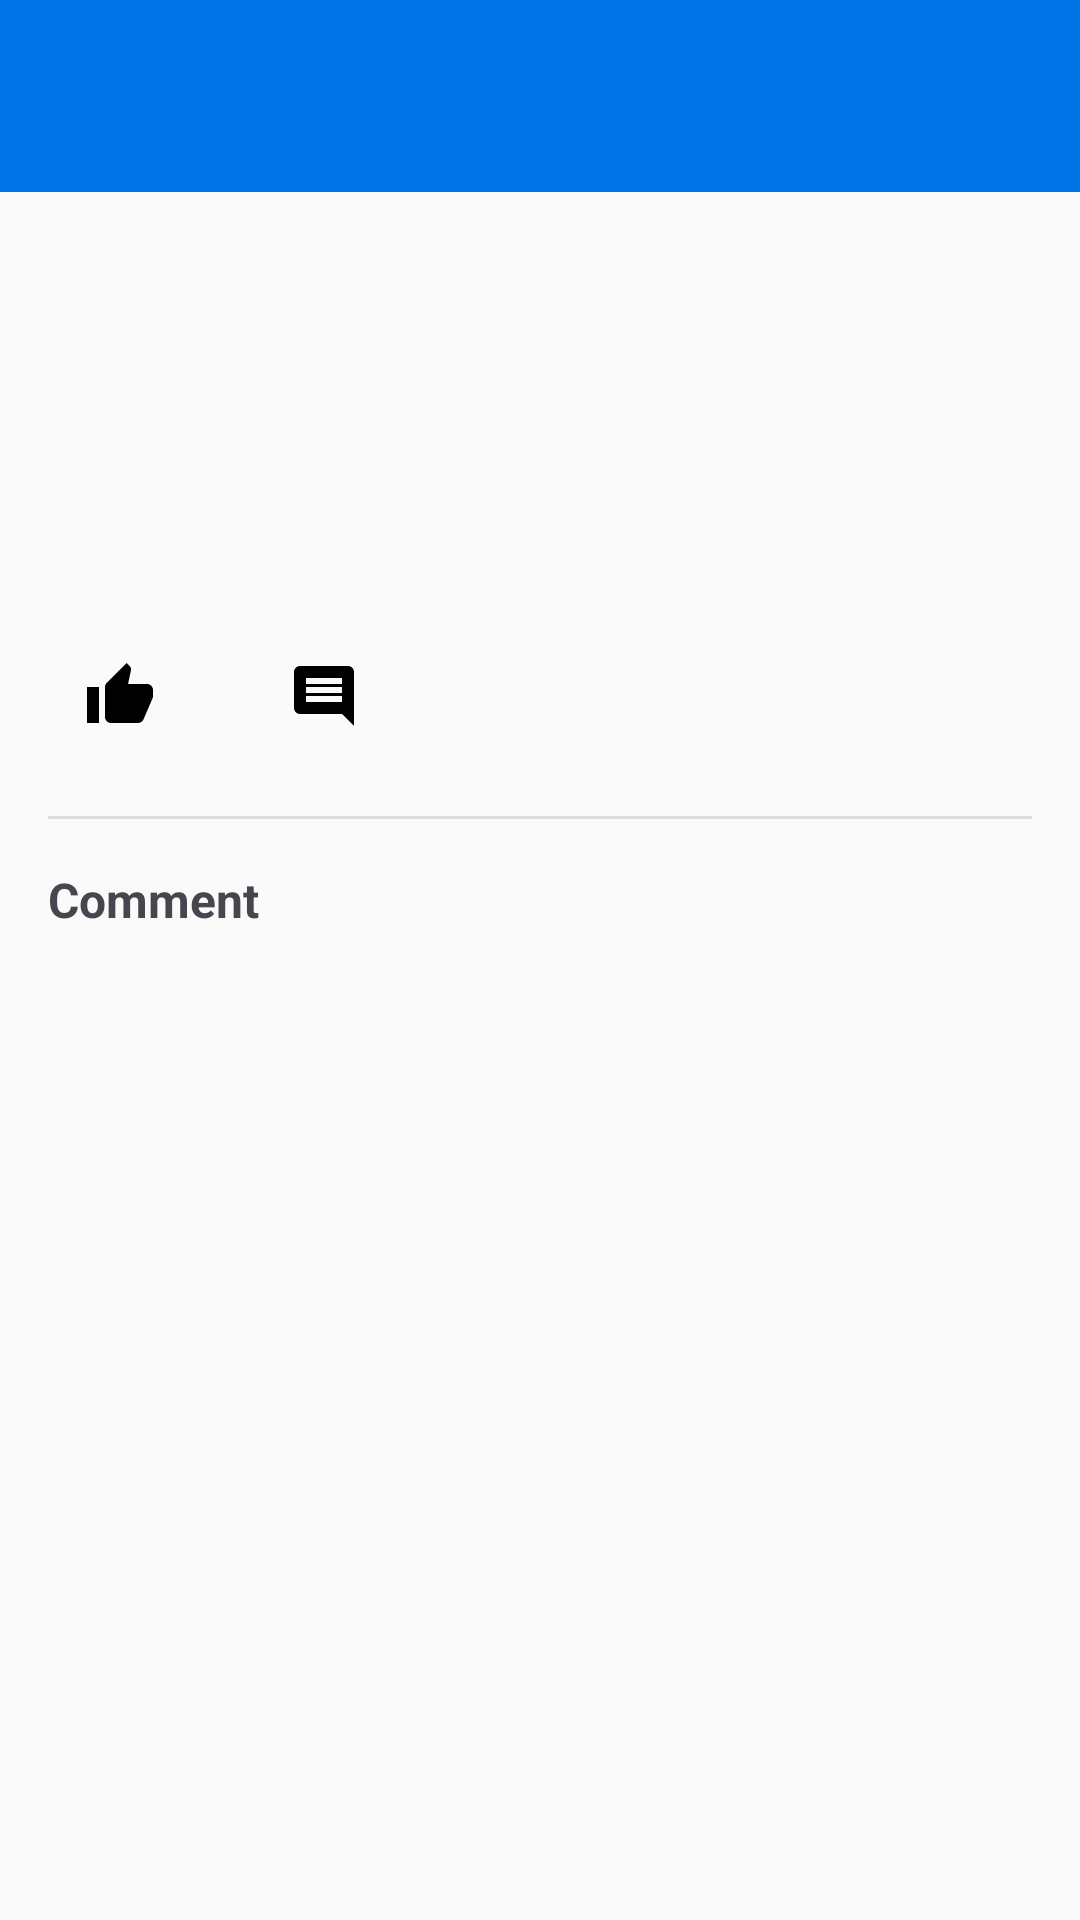

Named icons in this screenshot (1080 × 1920) and their bounding boxes, (x1, y1, x2, y2):
thumb up: (87, 663, 153, 723)
